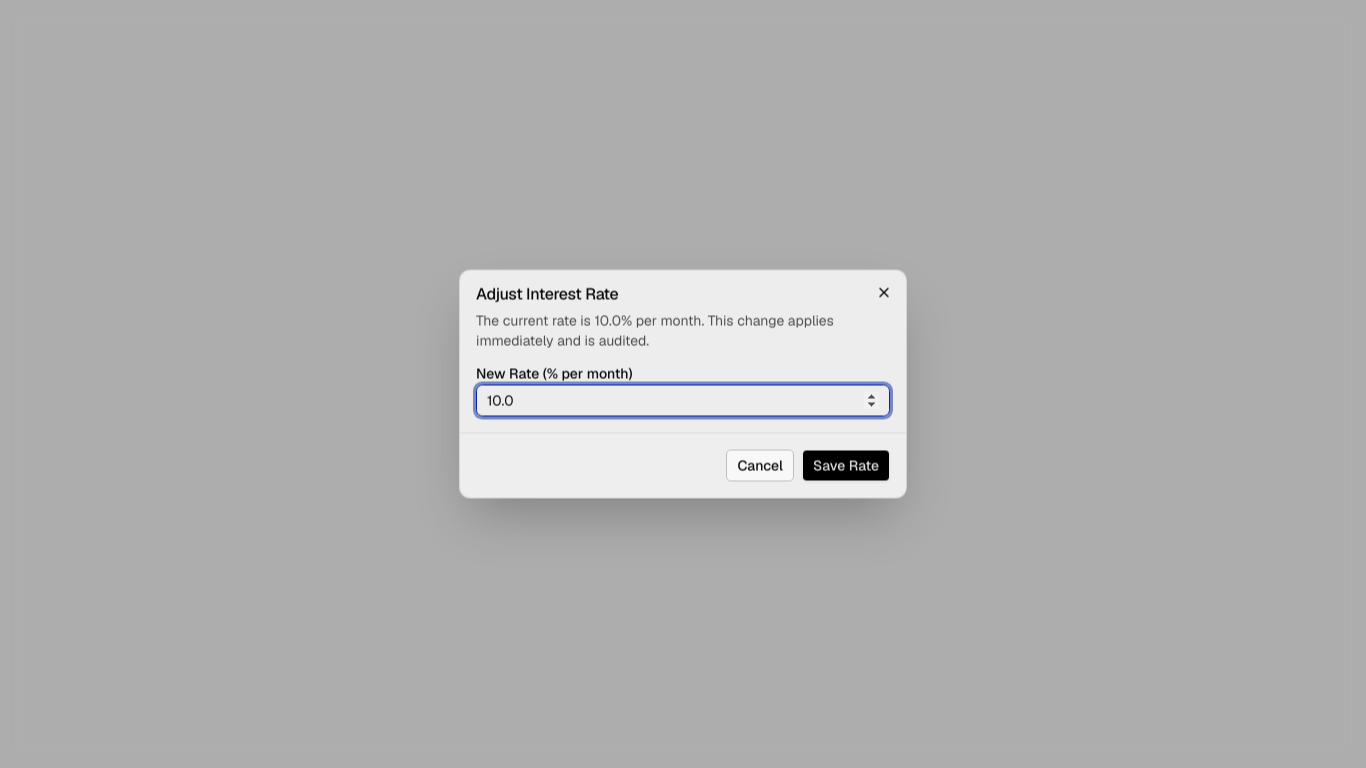
Test: AdminRateAdjustmentDialog › rejects an invalid rate
Replace the text in the number field labelled "New Rate (% per month)" with "0" at (683, 400), box [476,384,890,416]
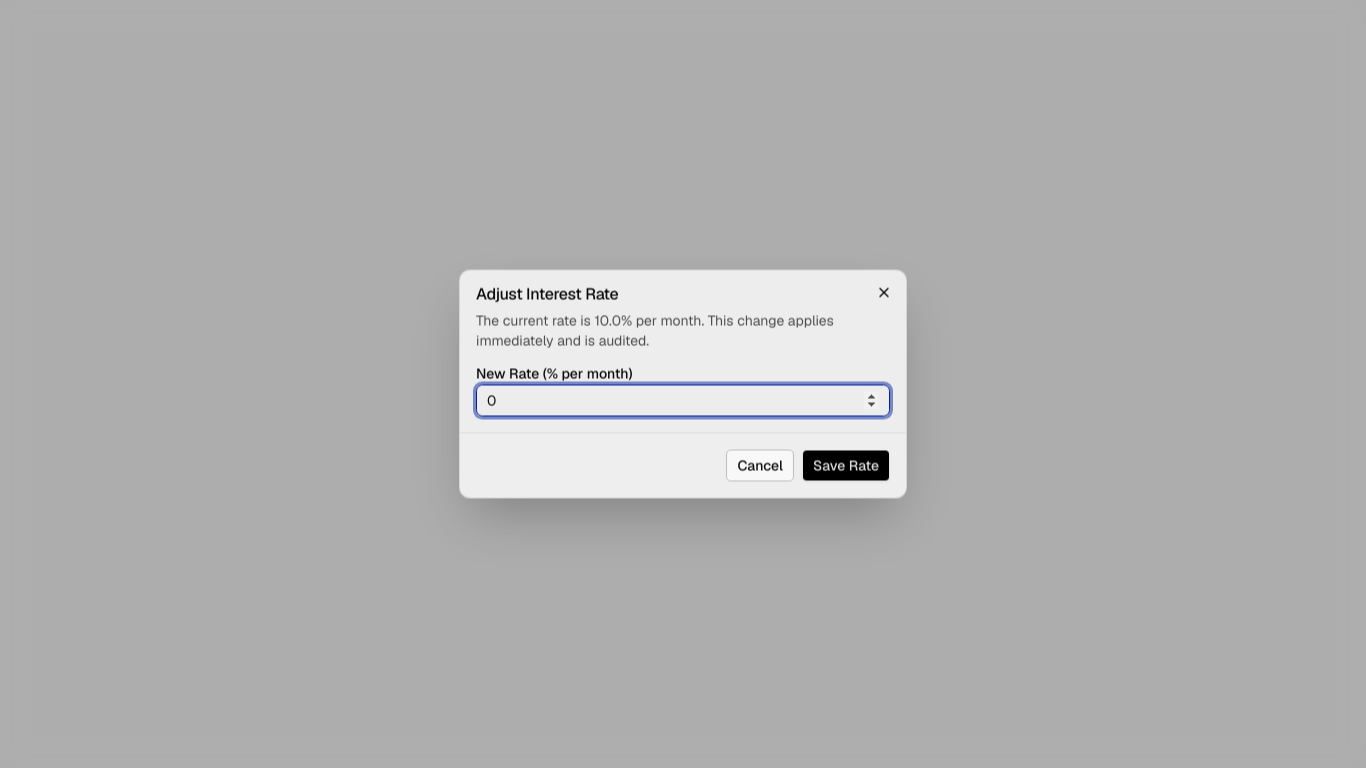
Click the button "Save Rate" at (846, 466), box [802,450,890,482]
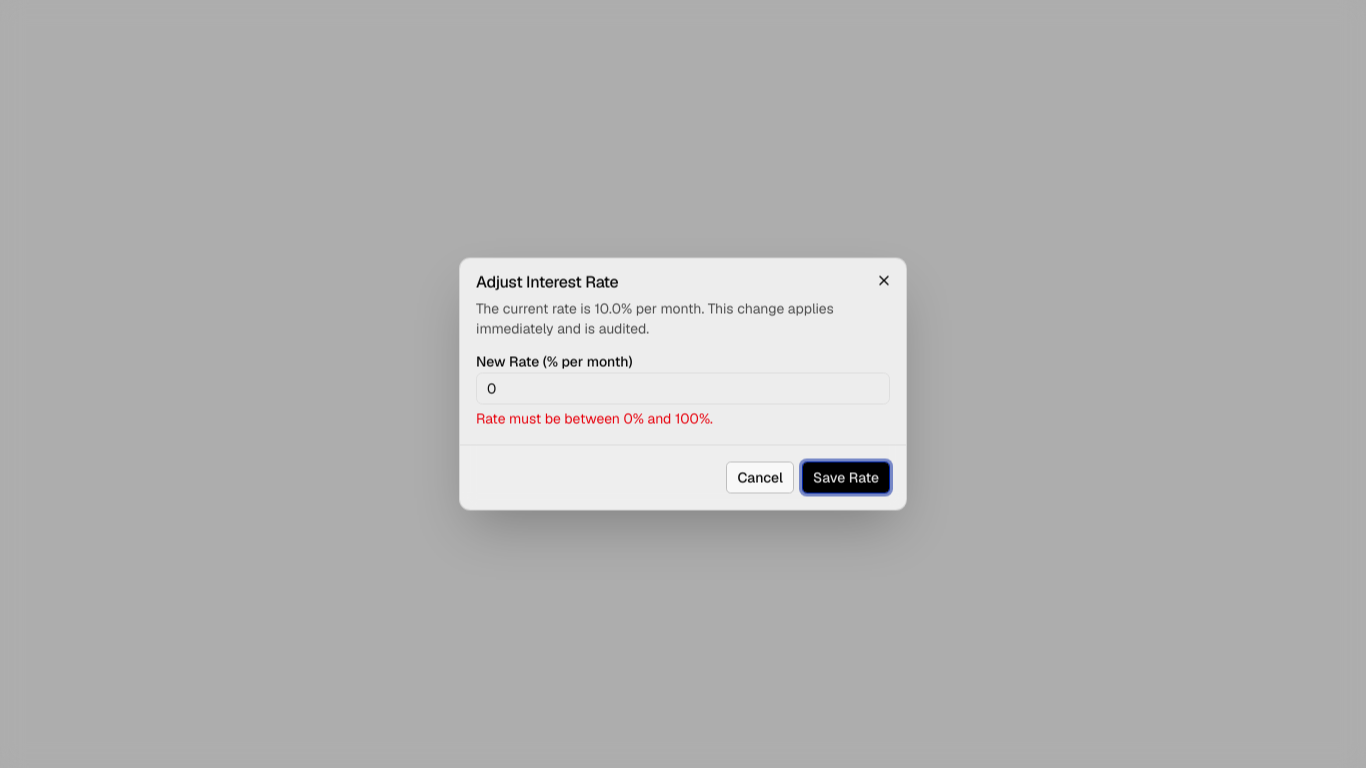
Expected: the text "Rate must be between 0% and 100%." is shown, [476,410,713,428]
